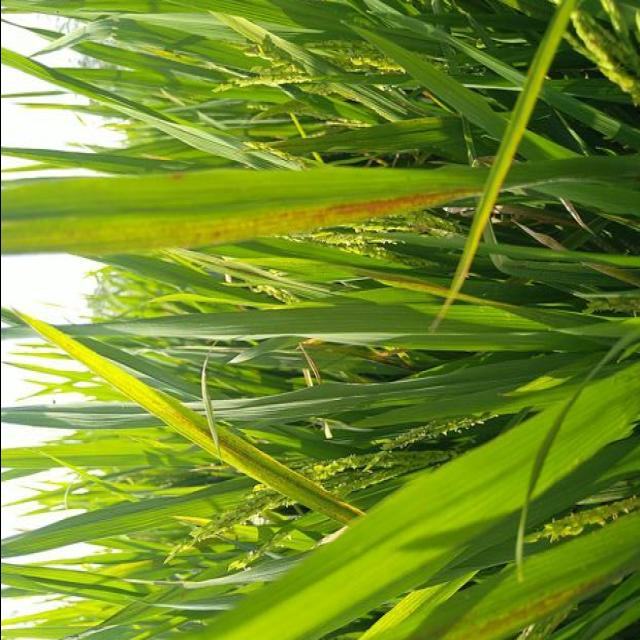Leaf Streak: (17, 312, 365, 526), (50, 210, 337, 247), (334, 190, 463, 221), (163, 171, 189, 185)
